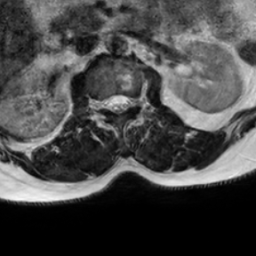CCS_normal: (113, 89, 121, 119)
LFS_normal: (130, 91, 137, 114)
LLS_normal: (121, 89, 129, 115)
RFS_normal: (96, 92, 106, 111)
RLS_normal: (106, 89, 114, 116)
